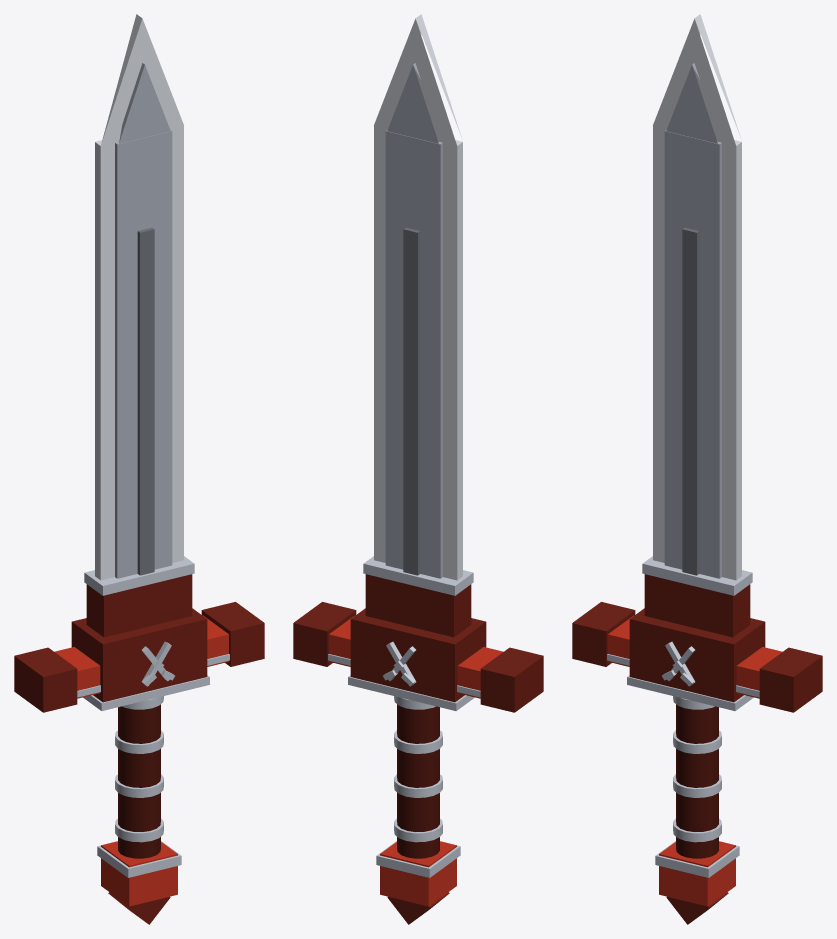
3 views of the same model, side by side, from view 1: azimuth 30°, elevation 25°; view 2: azimuth 150°, elevation 25°; view 3: azimuth 330°, elevation 25° (orthographic).
Visible parts, largest first — view 1: hunter-saber; view 2: hunter-saber; view 3: hunter-saber.
Boxes of the visible parts, box(x1,y1,x2,y2) form: hunter-saber: box(14, 14, 264, 924); hunter-saber: box(293, 14, 543, 924); hunter-saber: box(572, 14, 822, 924).
Bounding box in the file's own units: 0.2582 × 1 × 0.0829.
